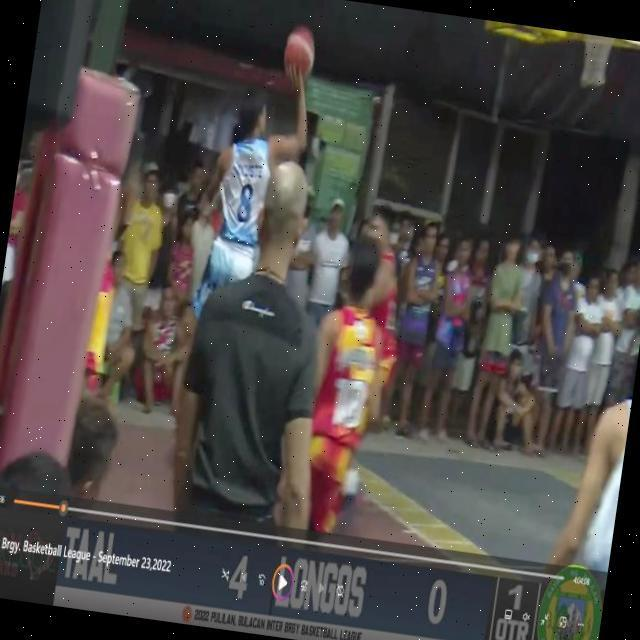ball: (280, 20, 322, 80)
